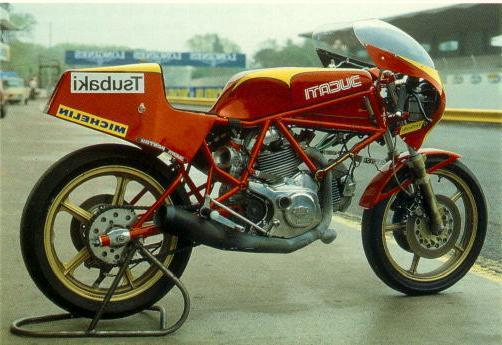motorcycle: (8, 11, 500, 326)
